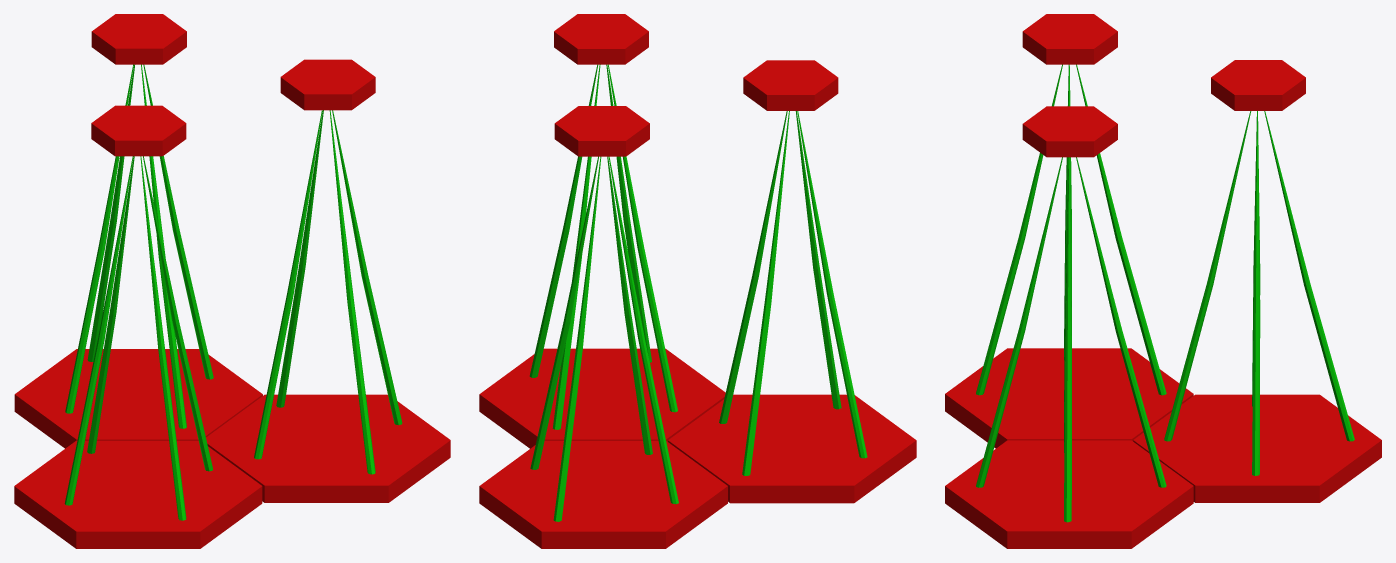
The model's file is HangingFuturelamp2.fbx.
3 renders of one model, left to right at view 1: azimuth 30°, elevation 25°; view 2: azimuth 150°, elevation 25°; view 3: azimuth 270°, elevation 25°, orthographic.
Visible parts, largest first — view 1: Cylinder.007; view 2: Cylinder.007; view 3: Cylinder.007.
Part boxes in pixels (x1=…): Cylinder.007: x1=14, y1=14, x2=450, y2=548; Cylinder.007: x1=479, y1=14, x2=916, y2=548; Cylinder.007: x1=945, y1=14, x2=1381, y2=548.
Bounding box in the file's own units: 165 × 166 × 160.
